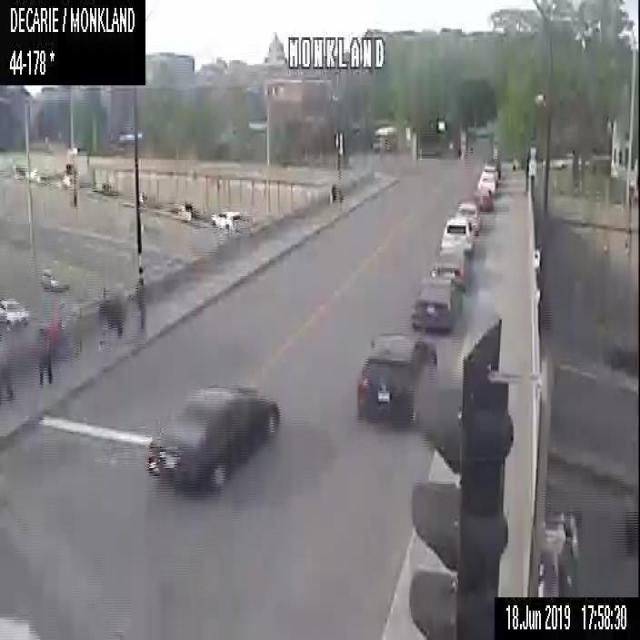pedestrian: (36, 320, 53, 384), (0, 332, 14, 400), (112, 285, 124, 351), (97, 286, 109, 352), (329, 182, 336, 206)
vehicle: (140, 383, 281, 497), (352, 328, 443, 425), (410, 276, 460, 330), (431, 244, 466, 286), (439, 215, 475, 252), (0, 296, 31, 328), (209, 209, 249, 231), (455, 201, 479, 233), (38, 265, 66, 291), (162, 202, 196, 222), (472, 184, 492, 210), (55, 169, 77, 191), (92, 178, 116, 198), (476, 173, 494, 195), (32, 166, 46, 182)
